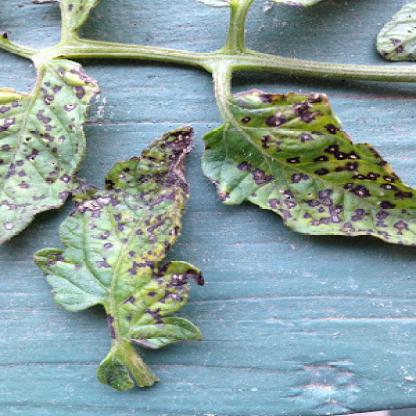Tomato Septoria leaf spot: (46, 114, 208, 402), (209, 90, 415, 252), (1, 49, 104, 263)
